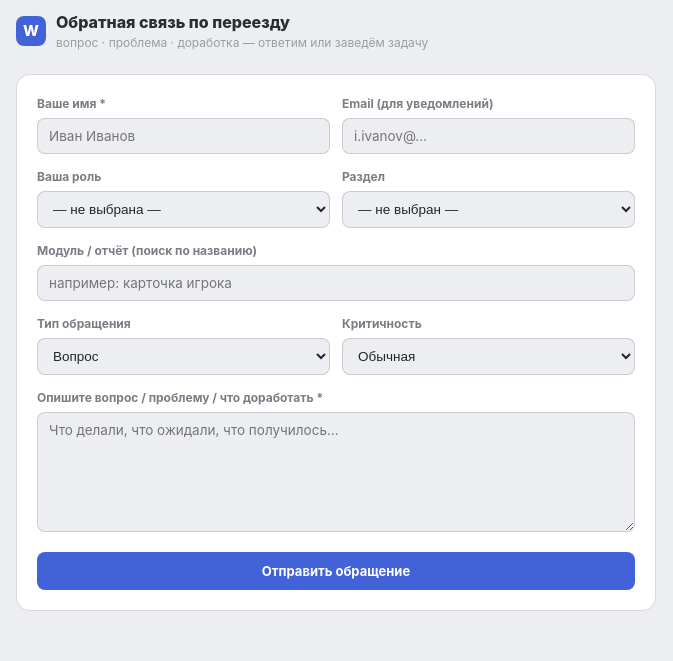
FeedbackApp (публичная форма и трек) › не отправляет пустую форму и показывает ошибку
Click the button "Отправить обращение" at (336, 571), box [37,552,635,590]
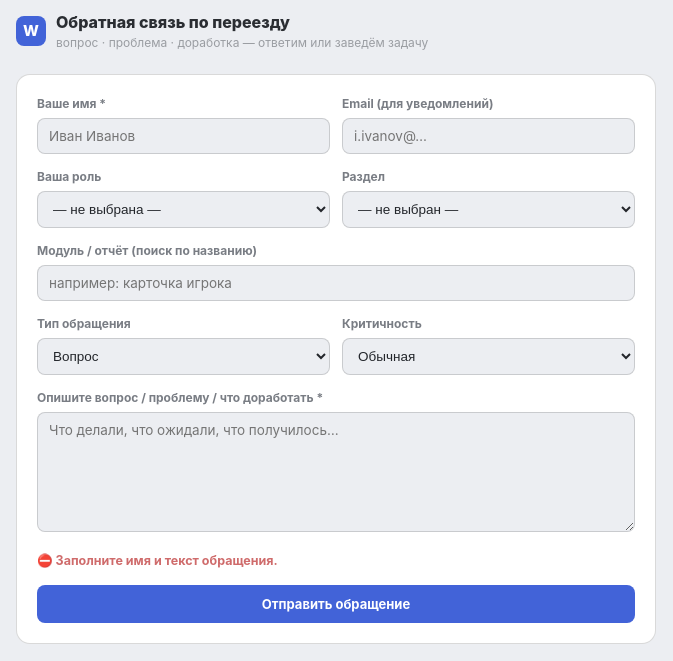
Expected: the text "⛔ Заполните имя и текст обращения." is shown, [37,553,278,568]
